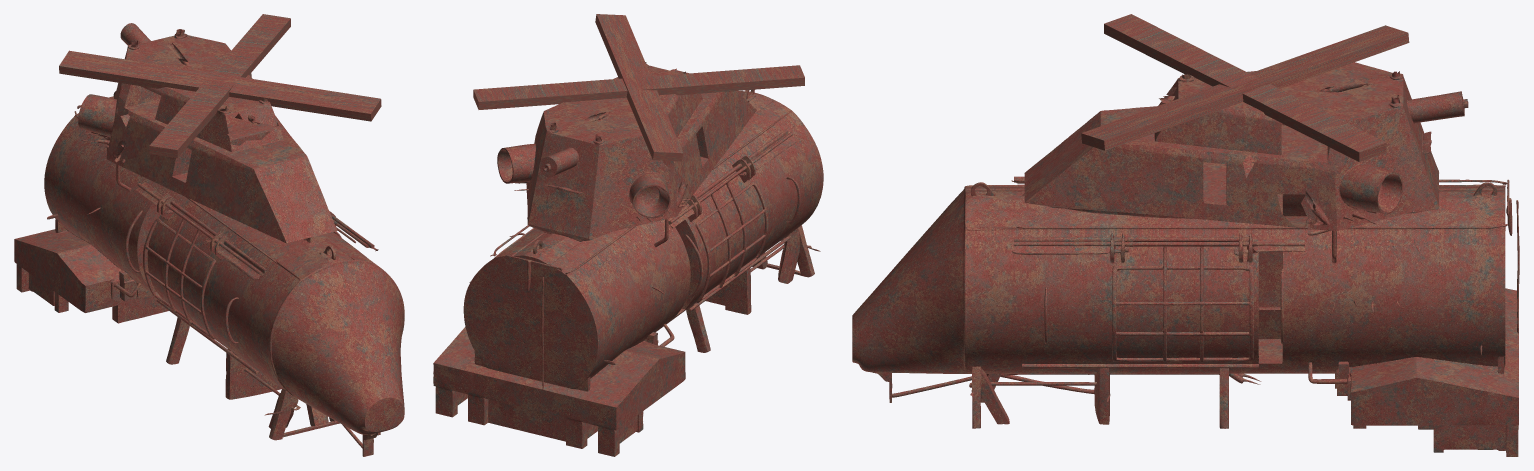
Rendered from merlin.glb.
3 renders of one model, left to right at view 1: azimuth 30°, elevation 25°; view 2: azimuth 150°, elevation 25°; view 3: azimuth 270°, elevation 25°, orthographic. The views are drawn at different scales.
Visible parts, largest first — view 1: model_0, Cube.001_1; view 2: model_0, Cube.001_1; view 3: model_0, Cube.001_1.
Part boxes in pixels (x1,y1,x2,y2): model_0: (14,23,404,456); Cube.001_1: (59,14,381,158); model_0: (433,62,823,456); Cube.001_1: (473,14,804,161); model_0: (852,62,1519,456); Cube.001_1: (1081,14,1409,161).
Bounding box in the file's own units: 0.9115 × 0.9941 × 1.86.
1 material, 1 textured.
